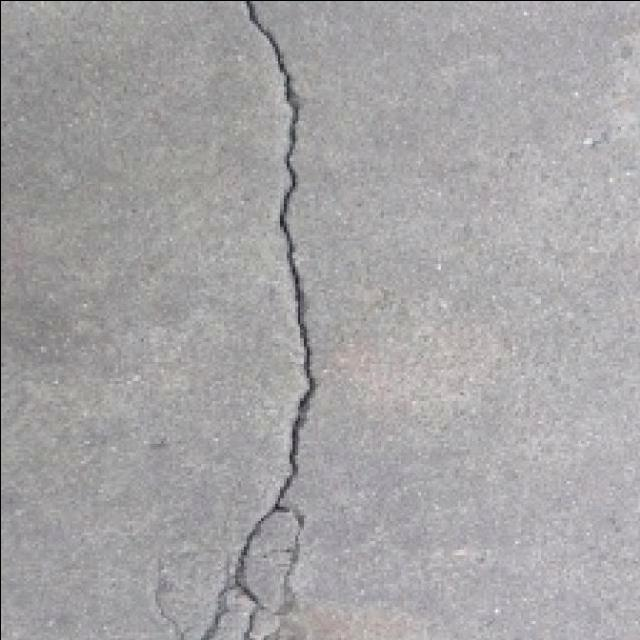SurfaceCrack: (184, 0, 348, 640)
